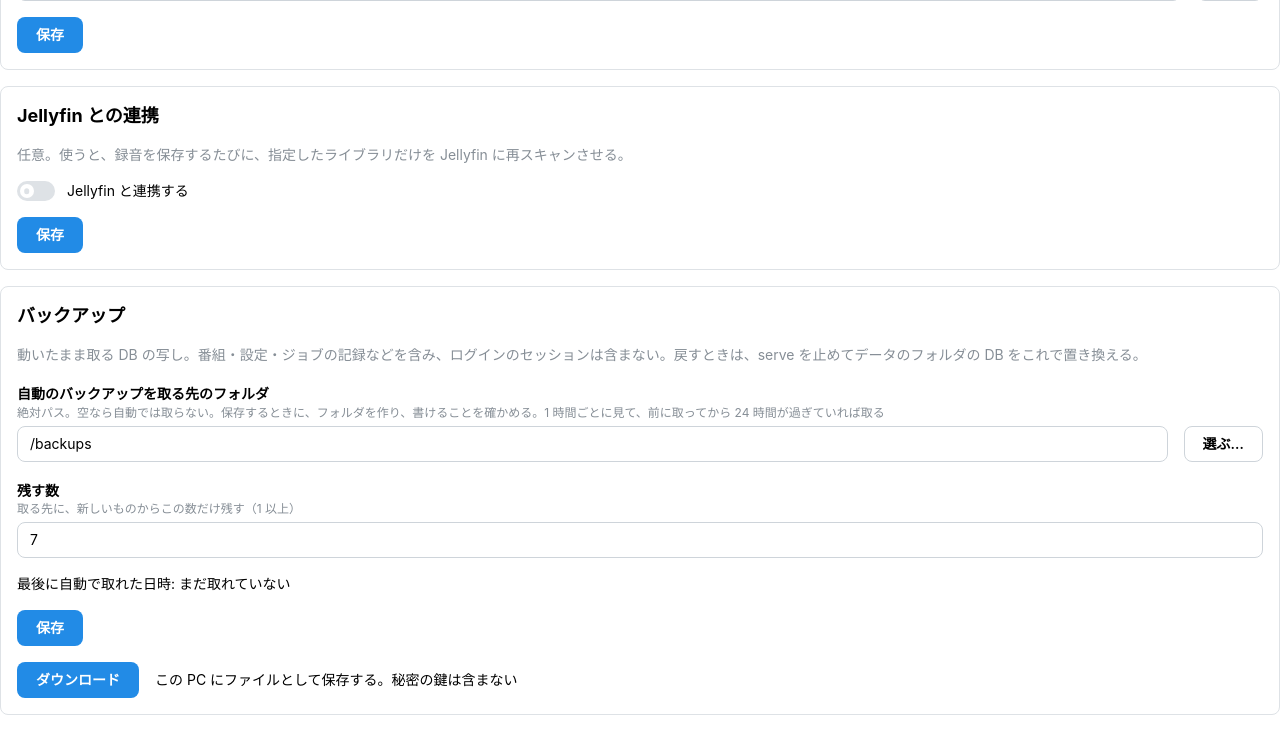
Test: SettingsPage のバックアップ › 通信に失敗したら、通信を確かめてほしいと出す
The width and height of the screenshot is (1280, 732).
(page scrolled)
Click the button "ダウンロード" at (78, 680), box [17,662,139,698]
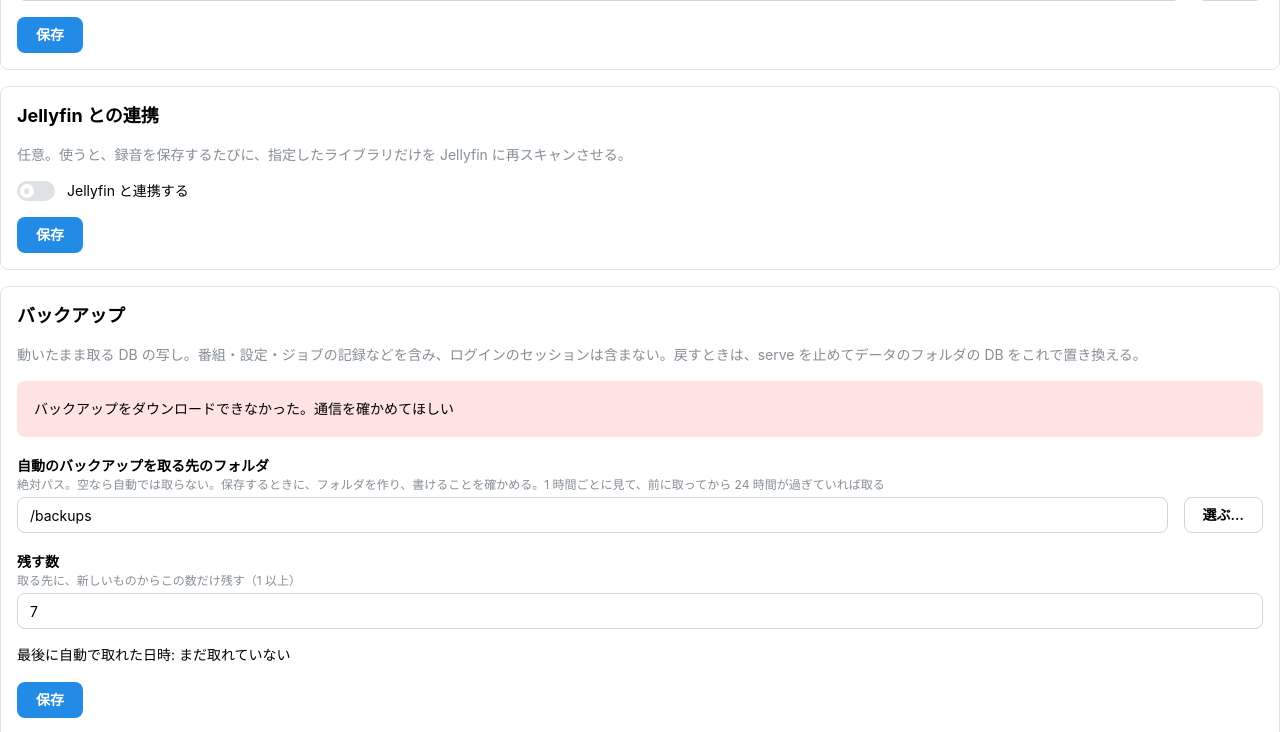
Now the message reads "バックアップをダウンロードできなかった。通信を確かめてほしい", box [34,400,454,417]
